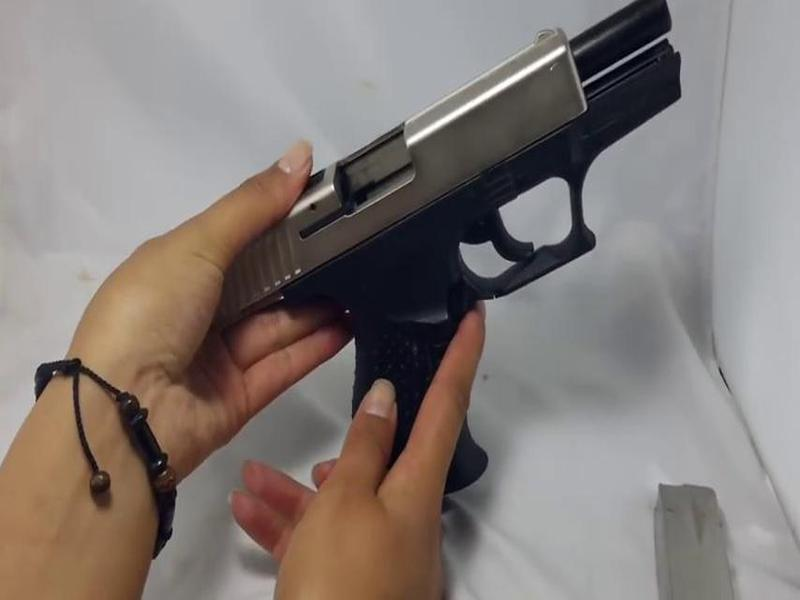Pistola: (159, 18, 684, 497)
